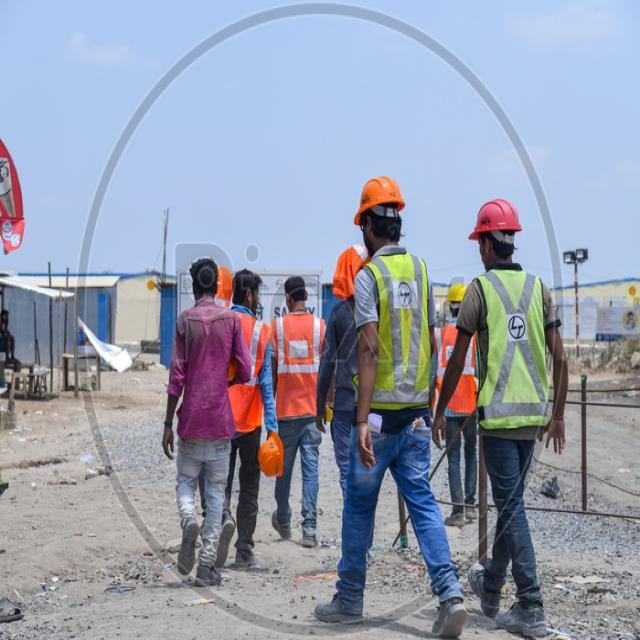helmet: (467, 183, 524, 243), (360, 170, 400, 223), (269, 423, 294, 474)
jacket: (473, 267, 551, 446), (364, 256, 436, 421), (271, 316, 320, 427)
